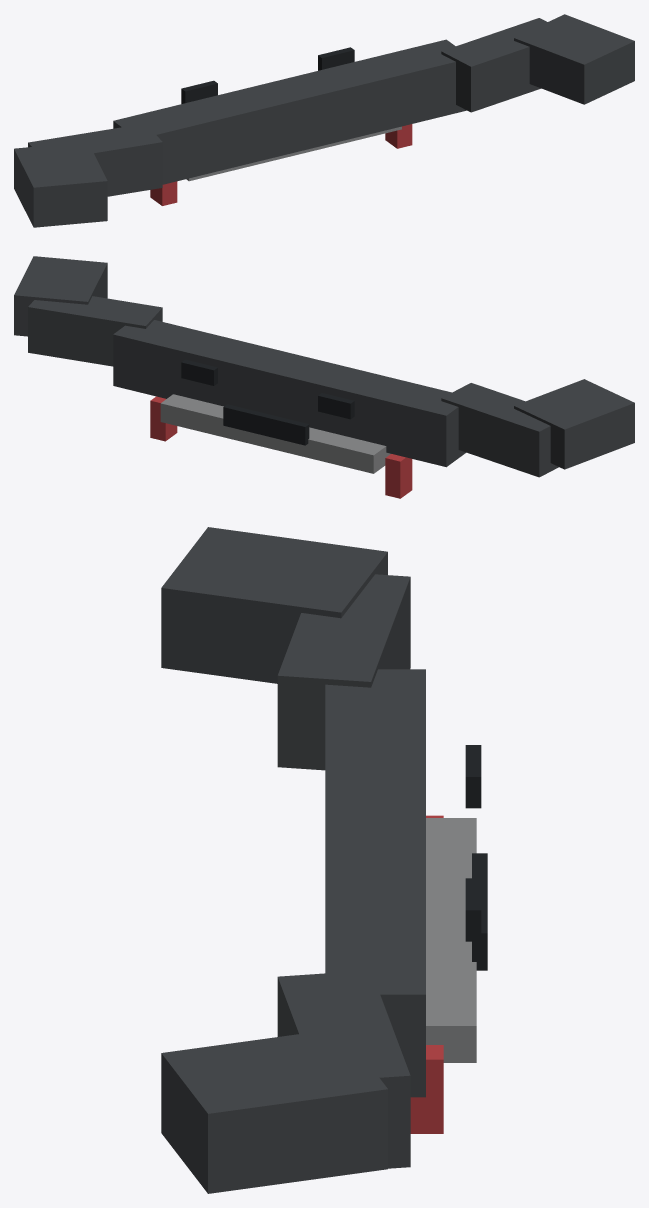
Rendered from rearbumper.glb.
3 renders of one model, top to bottom at view 1: azimuth 30°, elevation 25°; view 2: azimuth 150°, elevation 25°; view 3: azimuth 270°, elevation 25°, orthographic. The views are drawn at different scales.
Parts seen in each view (by area): view 1: rear_centre, quarter_return_1, quarter_return_-1, rear_wing_1, rear_wing_-1, rear_step, plate_light_zone_-1, plate_light_zone_1, rear_recovery_-1, rear_recovery_1; view 2: rear_centre, quarter_return_-1, rear_wing_-1, rear_wing_1, rear_step, quarter_return_1, tow_cutout, rear_recovery_-1, plate_light_zone_-1, plate_light_zone_1, rear_recovery_1; view 3: rear_centre, quarter_return_1, quarter_return_-1, rear_wing_-1, rear_step, rear_wing_1, rear_recovery_1, tow_cutout, plate_light_zone_1, plate_light_zone_-1.
Boxes of the visible parts, box(x1,y1,x2,y2) form: rear_centre: box(113, 39, 466, 184); quarter_return_1: box(514, 14, 634, 104); quarter_return_-1: box(14, 142, 107, 227); rear_wing_1: box(441, 18, 547, 112); rear_wing_-1: box(28, 123, 162, 196); rear_step: box(186, 126, 401, 181); plate_light_zone_-1: box(181, 80, 217, 103); plate_light_zone_1: box(318, 47, 354, 70); rear_recovery_-1: box(150, 181, 177, 205); rear_recovery_1: box(385, 124, 412, 148); rear_centre: box(113, 320, 466, 467); quarter_return_-1: box(514, 379, 634, 469); rear_wing_-1: box(441, 383, 558, 477); rear_wing_1: box(28, 296, 162, 366); rear_step: box(160, 394, 390, 473); quarter_return_1: box(14, 256, 107, 336); tow_cutout: box(223, 404, 309, 445); rear_recovery_-1: box(385, 454, 412, 498); plate_light_zone_-1: box(318, 393, 354, 419); plate_light_zone_1: box(181, 359, 217, 385); rear_recovery_1: box(150, 396, 177, 441); rear_centre: box(325, 669, 425, 1097); quarter_return_1: box(161, 1028, 387, 1193); quarter_return_-1: box(161, 527, 387, 683); rear_wing_-1: box(277, 574, 410, 770); rear_step: box(426, 818, 476, 1062); rear_wing_1: box(277, 970, 410, 1168); rear_recovery_1: box(410, 1045, 443, 1133); tow_cutout: box(472, 853, 487, 970); plate_light_zone_1: box(465, 878, 481, 941); plate_light_zone_-1: box(465, 745, 481, 808).
Bounding box in the file's own units: 2.2 × 0.335 × 0.5172.
